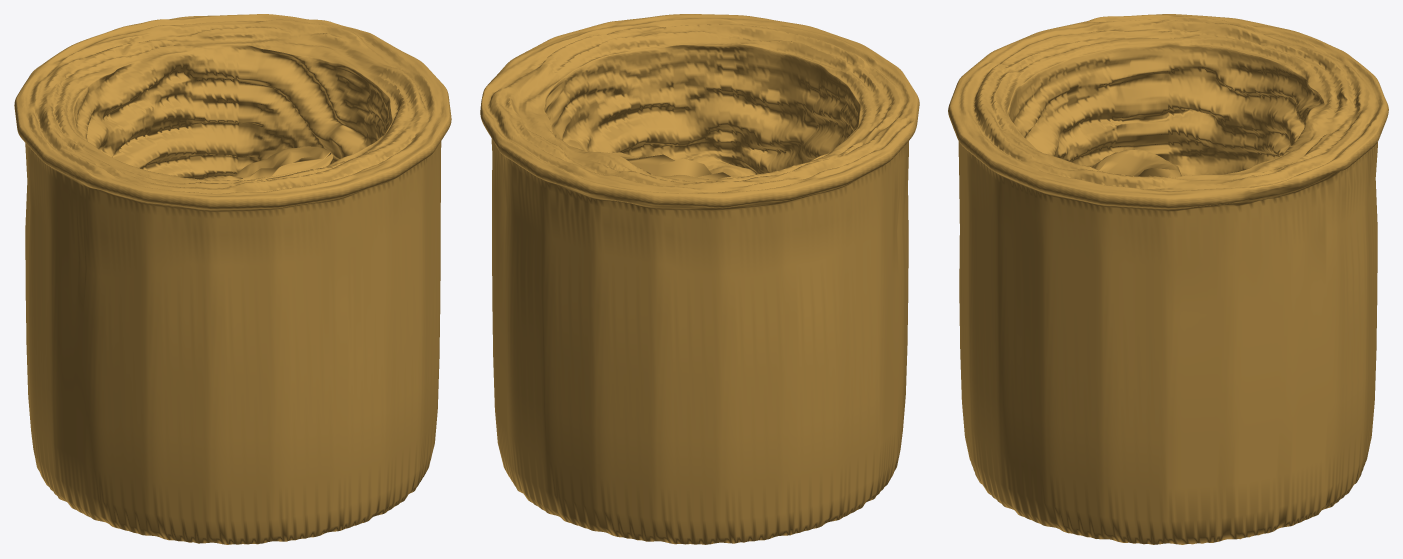
The picture shows the model from 3 angles, left to right: view 1: azimuth 30°, elevation 25°; view 2: azimuth 150°, elevation 25°; view 3: azimuth 270°, elevation 25°; orthographic projection.
Parts seen in each view (by area): view 1: Ice_Creem_02; view 2: Ice_Creem_02; view 3: Ice_Creem_02.
Boxes of the visible parts, x1=… form: Ice_Creem_02: x1=14, y1=14, x2=451, y2=544; Ice_Creem_02: x1=480, y1=14, x2=919, y2=544; Ice_Creem_02: x1=948, y1=14, x2=1388, y2=544.
Size of the model in its own units: 1.22 by 1.13 by 1.22.
